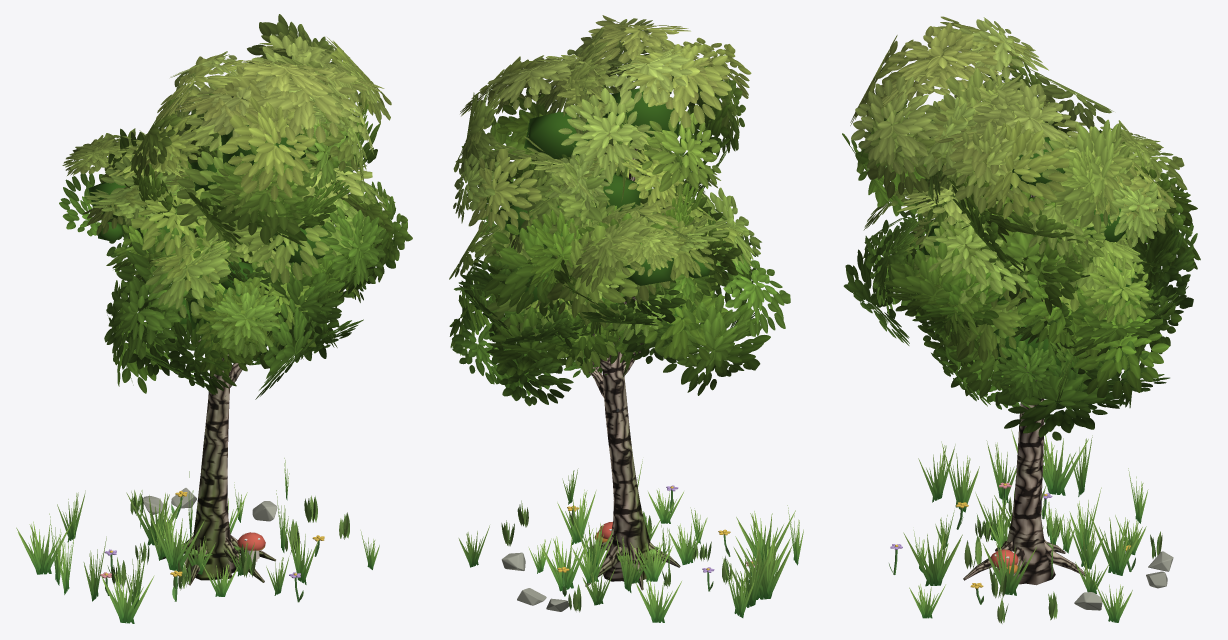
The model's file is tree_birch_lod1.gltf.
3 views of the same model, side by side, from view 1: azimuth 30°, elevation 25°; view 2: azimuth 150°, elevation 25°; view 3: azimuth 270°, elevation 25° (orthographic). The views are drawn at different scales.
Visible parts, largest first — view 1: Canopy_summer, Undergrowth, Trunk, Base; view 2: Canopy_summer, Undergrowth, Trunk, Base; view 3: Canopy_summer, Undergrowth, Trunk, Base.
Boxes of the visible parts, x1,y1,x2,y2 form: Canopy_summer: (59,14,412,399); Undergrowth: (16,458,379,623); Trunk: (161,263,290,585); Base: (99,392,349,602); Canopy_summer: (449,15,790,406); Undergrowth: (458,459,803,622); Trunk: (583,148,680,590); Base: (501,407,757,612); Canopy_summer: (842,16,1200,440); Undergrowth: (903,429,1148,622); Trunk: (963,195,1087,595); Base: (889,404,1173,623).
Size of the model in its own units: 4.17 by 6.27 by 3.98.
18 materials, 2 textured.
